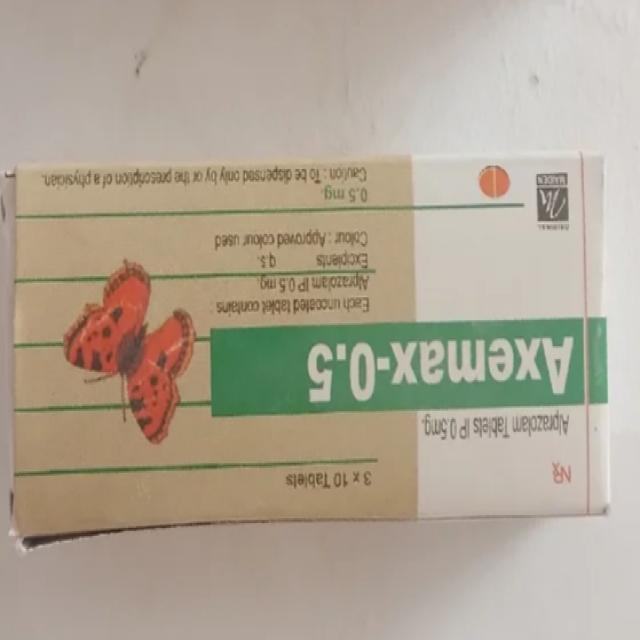drug-name: (302, 338, 578, 402)
